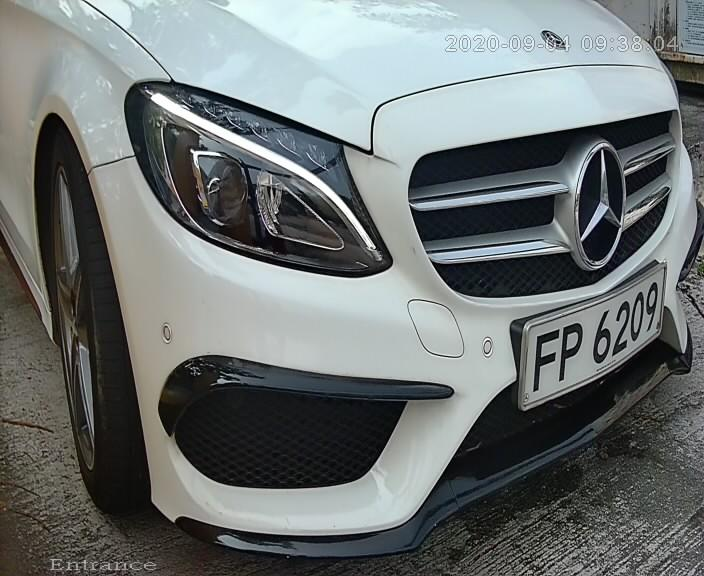License Plate: (496, 249, 685, 425)
